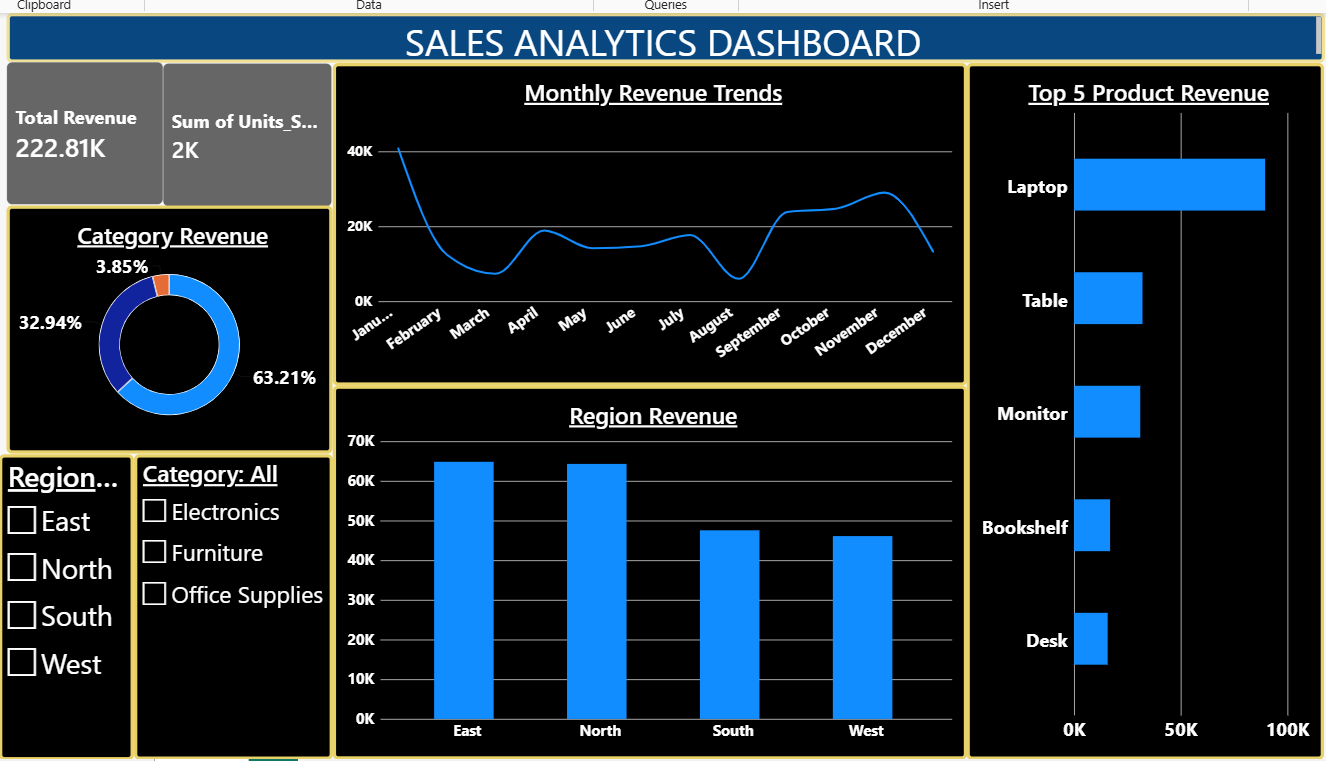

The page's visual inventory and layout, read from the dashboard file:
{"tool":"powerbi","page":{"name":"Page 1","canvas":[1920,1080],"ordinal":0},"visuals":[{"type":"textbox","box":[10.7,0,1908.8,72.1],"z":0},{"type":"cardVisual","fields":{"Data":["Sum(sales_data.Revenue)"]},"box":[10.8,71.4,227.2,207.8],"z":1},{"type":"cardVisual","fields":{"Data":["Sum(sales_data.Units_Sold)"]},"box":[237.6,72.1,245.6,208.2],"z":2},{"type":"lineChart","title":"Monthly Revenue Trends","fields":{"Category":["sales_data.Order_Date.Variation.Date Hierarchy.Month"],"Y":["Sum(sales_data.Revenue)"]},"box":[483.2,72.1,918.4,467.2],"z":3},{"type":"barChart","title":"Top 5 Product Revenue","fields":{"Category":["sales_data.Product"],"Y":["Sum(sales_data.Revenue)"]},"box":[1401.6,72.1,517.9,1009.1],"z":4},{"type":"donutChart","title":"Category Revenue","fields":{"Category":["sales_data.Category"],"Y":["Sum(sales_data.Revenue)"]},"box":[10.8,279.2,471.8,359.2],"z":5},{"type":"clusteredColumnChart","title":"Region Revenue","fields":{"Category":["sales_data.Region"],"Y":["Sum(sales_data.Revenue)"]},"box":[483.2,539.3,918.4,541.9],"z":6},{"type":"slicer","fields":{"Values":["sales_data.Region"]},"box":[0,638.1,194.9,443.2],"z":7},{"type":"slicer","fields":{"Values":["sales_data.Category"]},"box":[195,638,288,442],"z":8}]}

Visuals, with their boxes in screenshot pixels (x1, y1, x2, y2):
textbox: box=[11, 14, 1311, 63]
cardVisual - Sum(sales_data.Revenue): box=[11, 62, 166, 204]
cardVisual - Sum(sales_data.Units_Sold): box=[165, 63, 333, 205]
"Monthly Revenue Trends" lineChart: box=[333, 63, 958, 381]
"Top 5 Product Revenue" barChart: box=[958, 63, 1311, 750]
"Category Revenue" donutChart: box=[11, 204, 332, 449]
"Region Revenue" clusteredColumnChart: box=[333, 381, 958, 750]
slicer - sales_data.Region: box=[3, 448, 136, 750]
slicer - sales_data.Category: box=[136, 448, 332, 749]
